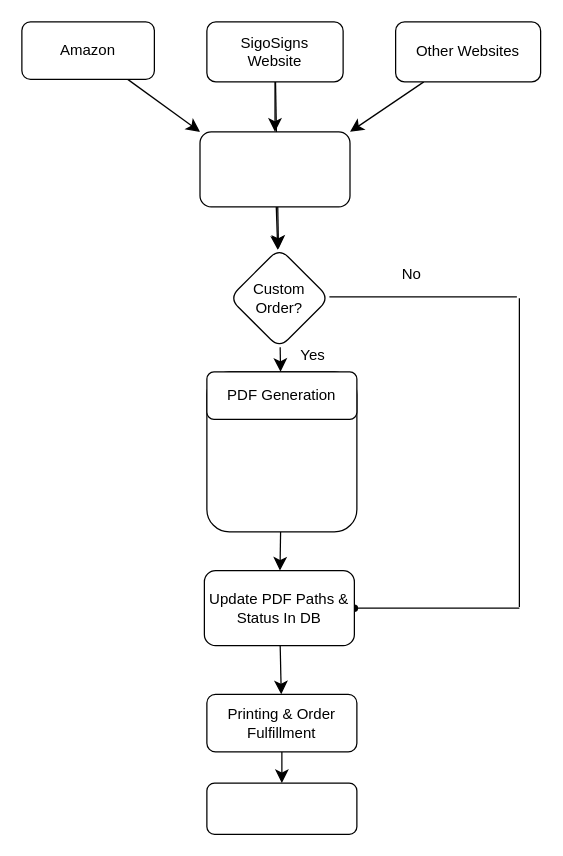
Some shapes in this 563 by 856 pixel diagram are drawn without their labels. The box of each missing label's shape, as (x1, y1, x2, y2) in pixels:
Fetching Orders from Teapplix: (199, 131, 350, 207)
Order Shipment: (206, 782, 357, 834)
Supporting Files Background Files Cut Lines Cut Holes Borders: (206, 371, 357, 532)
